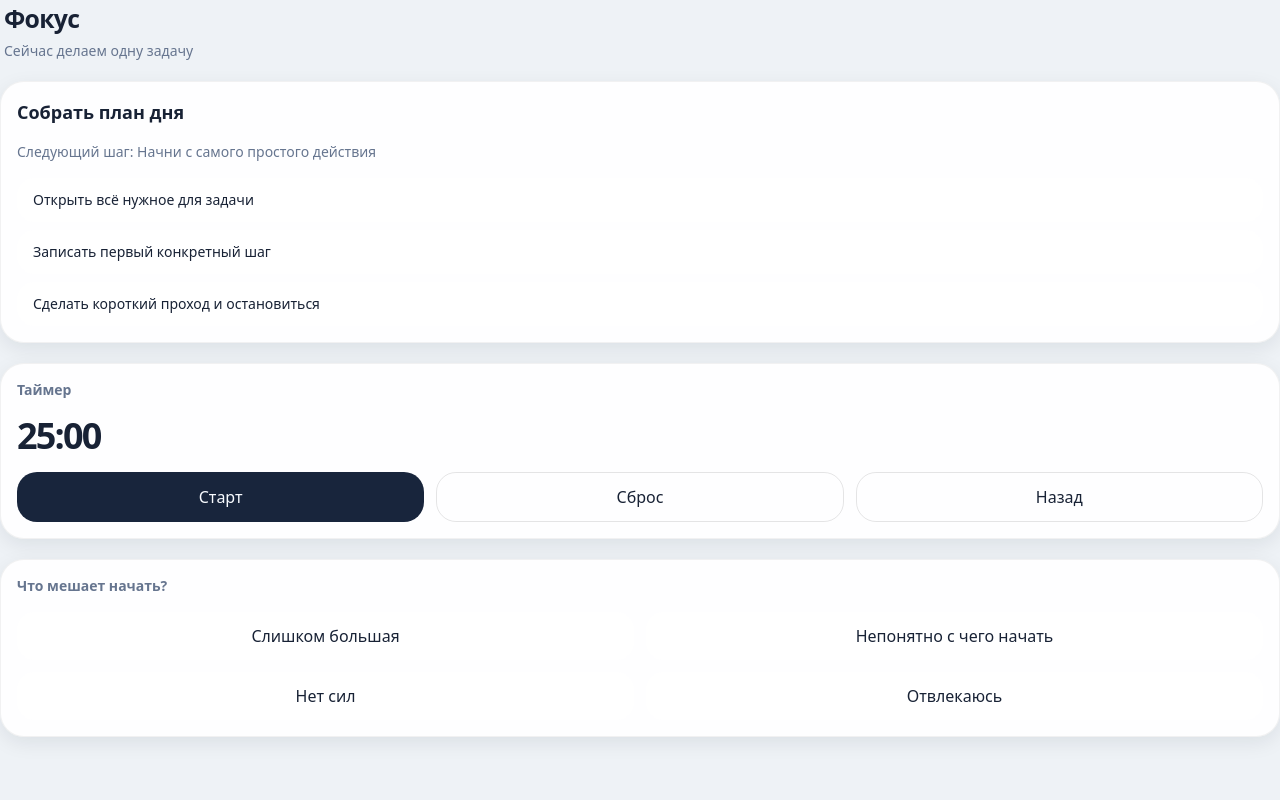
Test: focus › focus no longer crashes with malformed selected task id
The width and height of the screenshot is (1280, 800).
Click the button "Слишком большая": (326, 636) 17,612 -> 634,660
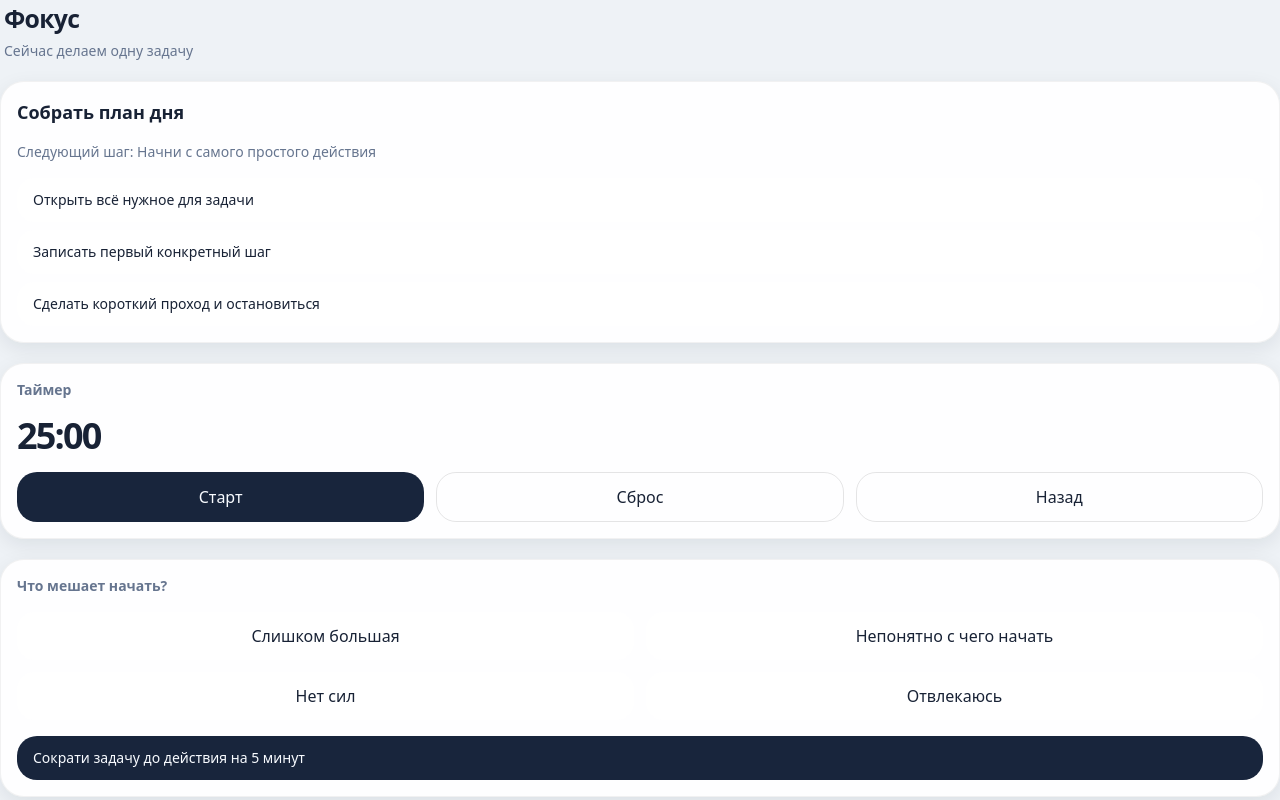
Expected: the button "Сократи задачу до действия на 5 минут" is shown, 17,736 -> 1263,780
